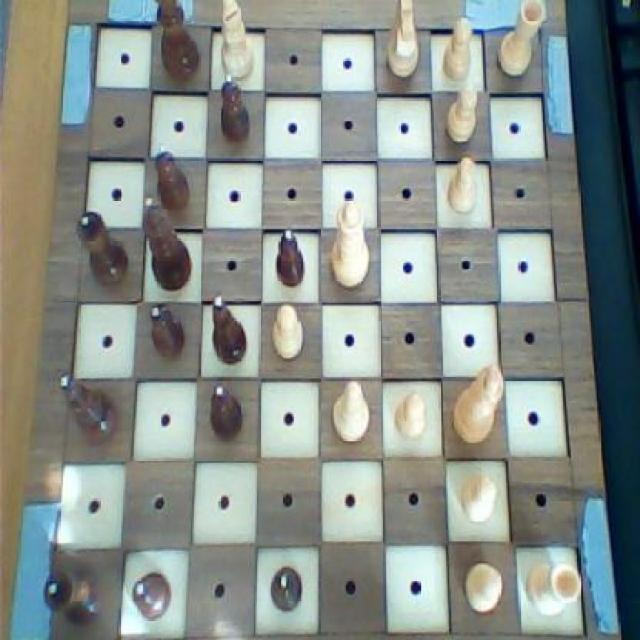bishop: (54, 366, 122, 452), (206, 291, 251, 370)
black-bishop: (144, 0, 204, 85)
black-knight: (142, 298, 189, 364), (126, 563, 175, 626), (149, 146, 194, 213), (271, 222, 311, 293), (217, 68, 252, 144), (204, 379, 243, 446), (266, 560, 304, 615)
black-pawn: (136, 189, 197, 294)
black-queen: (75, 206, 131, 293), (41, 554, 106, 628)
black-rook: (214, 0, 257, 82), (329, 372, 372, 448)
white-bishop: (449, 357, 508, 448)
white-king: (382, 0, 428, 85)
white-knight: (457, 552, 507, 621), (437, 9, 478, 85), (440, 81, 482, 146), (457, 468, 501, 529), (268, 298, 308, 364), (389, 388, 432, 448), (442, 154, 482, 218)
white-pawn: (326, 191, 374, 294)
white-queen: (491, 0, 551, 83), (521, 549, 584, 626)
